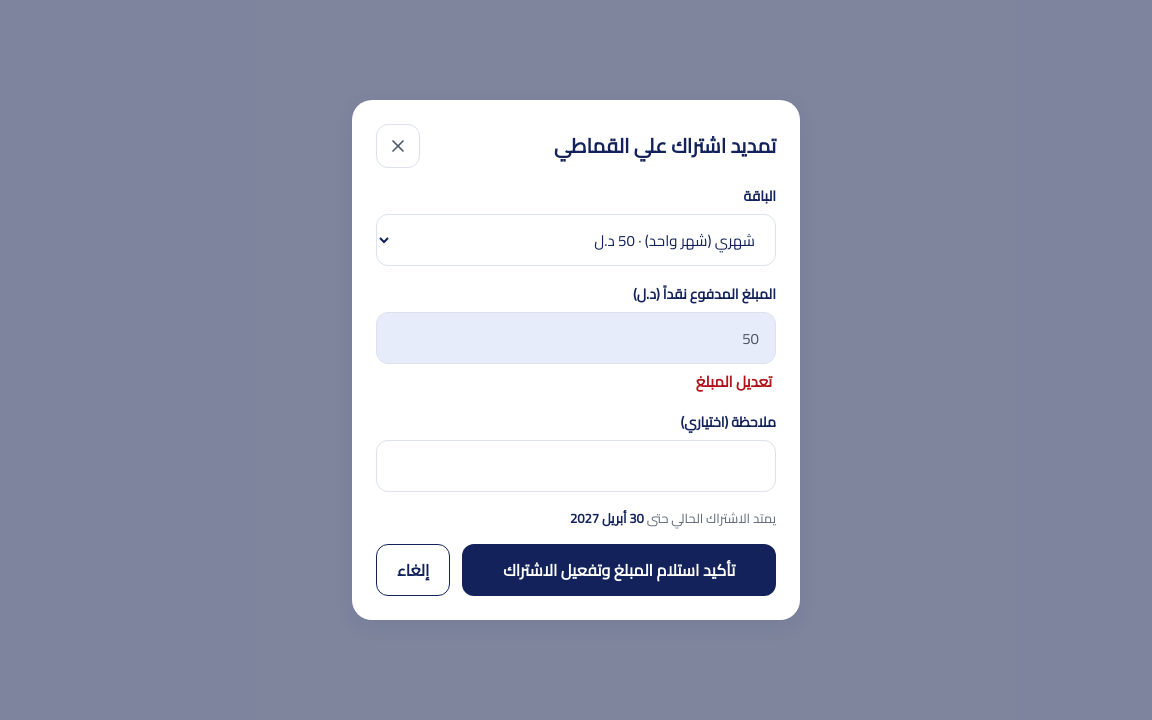
ActivateDialog › extends from the current end date when the subscription is still running
The image size is (1152, 720).
Expected: the dialog "تمديد اشتراك علي القماطي" is shown, [352,100,800,620]
Expected: the number field labelled "المبلغ المدفوع نقداً (د.ل)" holds "50", [376,312,776,364]
Select "ربع سنوي (3 أشهر) · 150 د.ل" in the dropdown labelled "الباقة" at (576, 240), box [376,214,776,266]
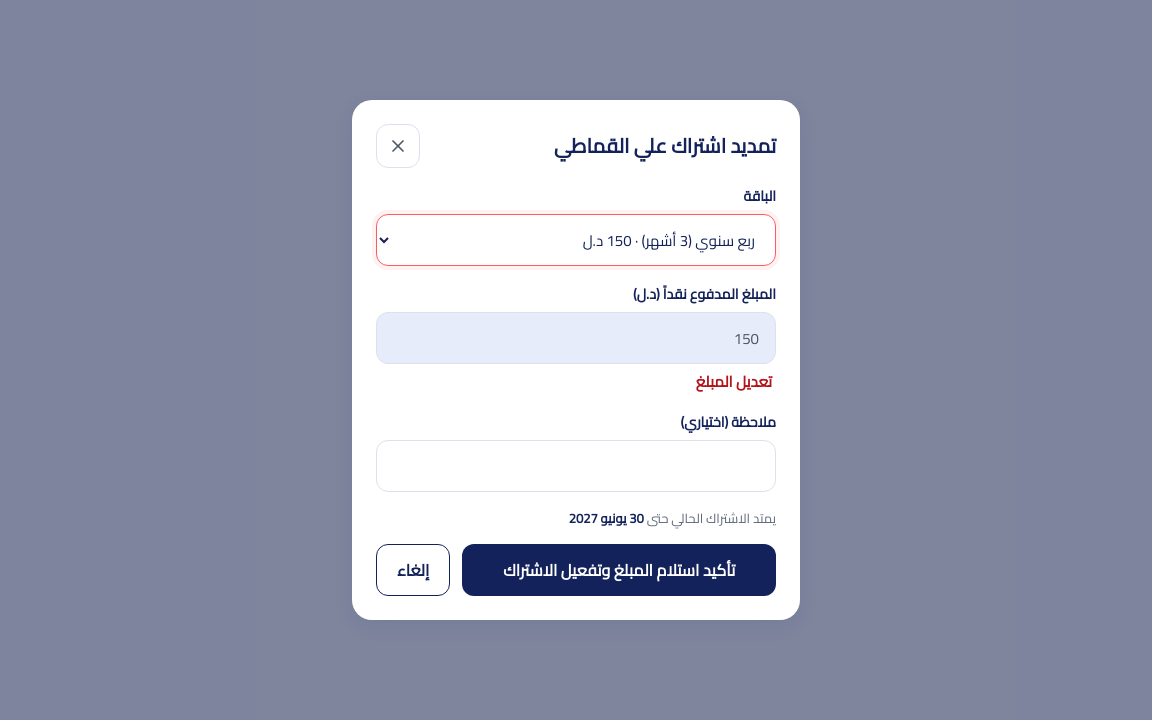
Result: the text with test id "ends-at" reads "30 يونيو 2027" at [569,506,644,530]
